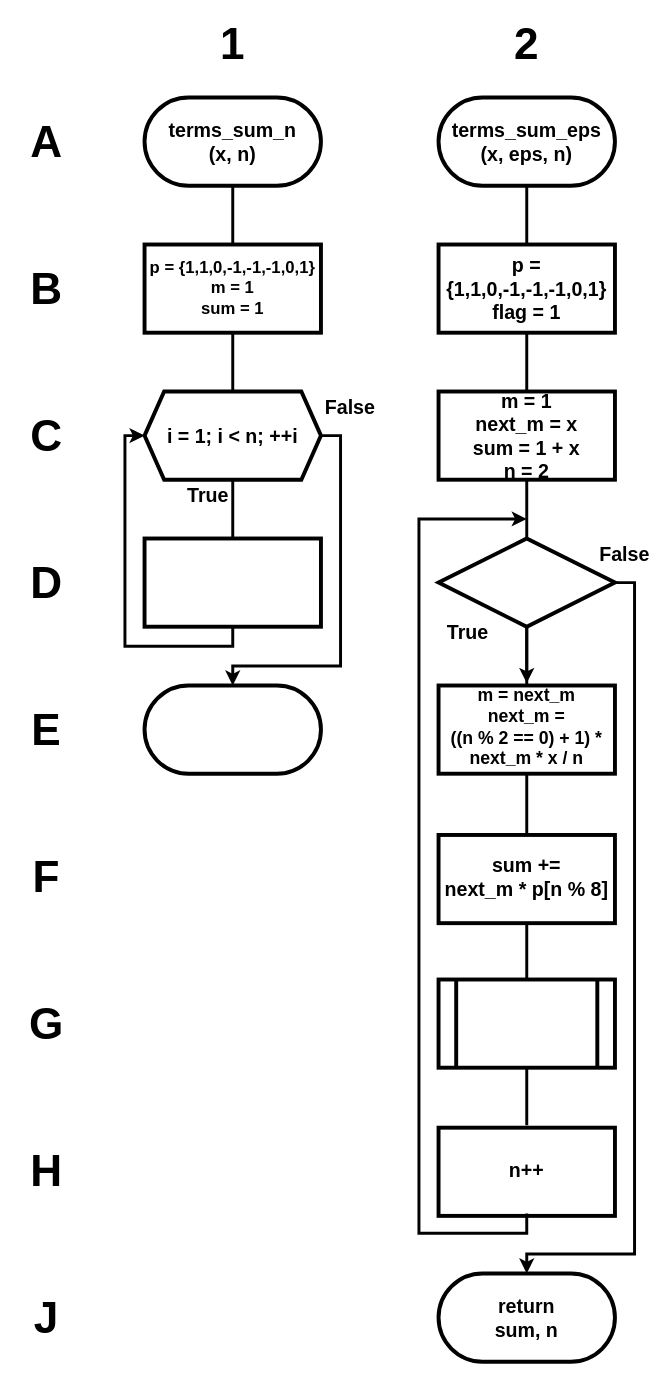
This 670x1380 diagram has some shape labels left out. Here are the shapes that lost their labels. From the top down, the box of each, then its label:
(142, 536, 322, 628): m = ((i % 2 == 0) + 1) * m * x / i sum += m * p[i % 8]
(436, 536, 616, 628): flag
(142, 683, 322, 775): return sum
(436, 977, 616, 1069): flag = (myabs(m - next_m * p[n % 8]) > eps)
